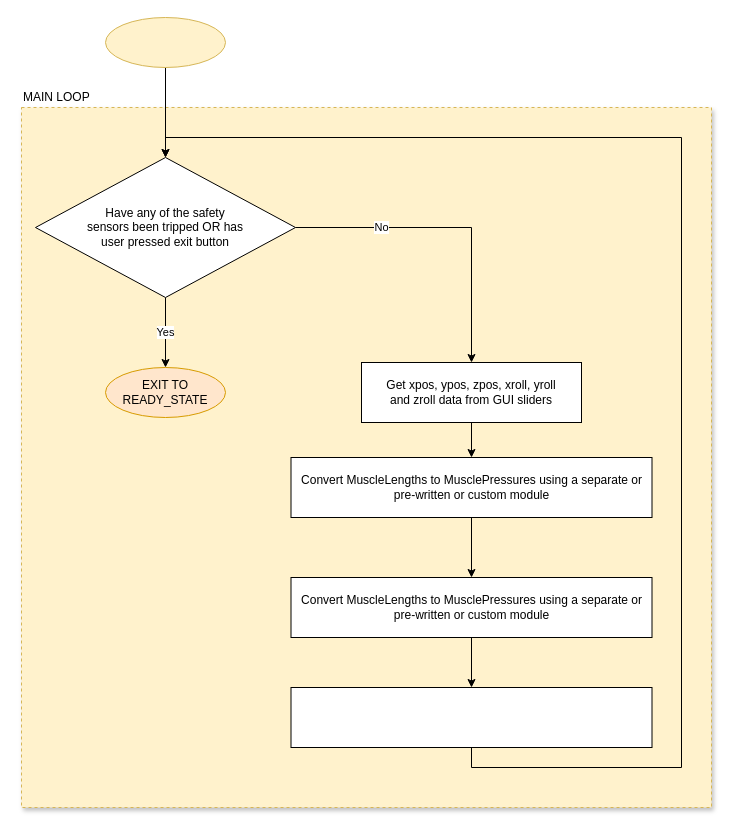
The diagram is 735 pixels wide and 832 high, and some of its shapes have lost their labels. Each missing label, with the centre of its shape:
"ENTER STATE" goes at point 165,42.
"Send MusclePressures to PLC via UDP" goes at point 471,717.
